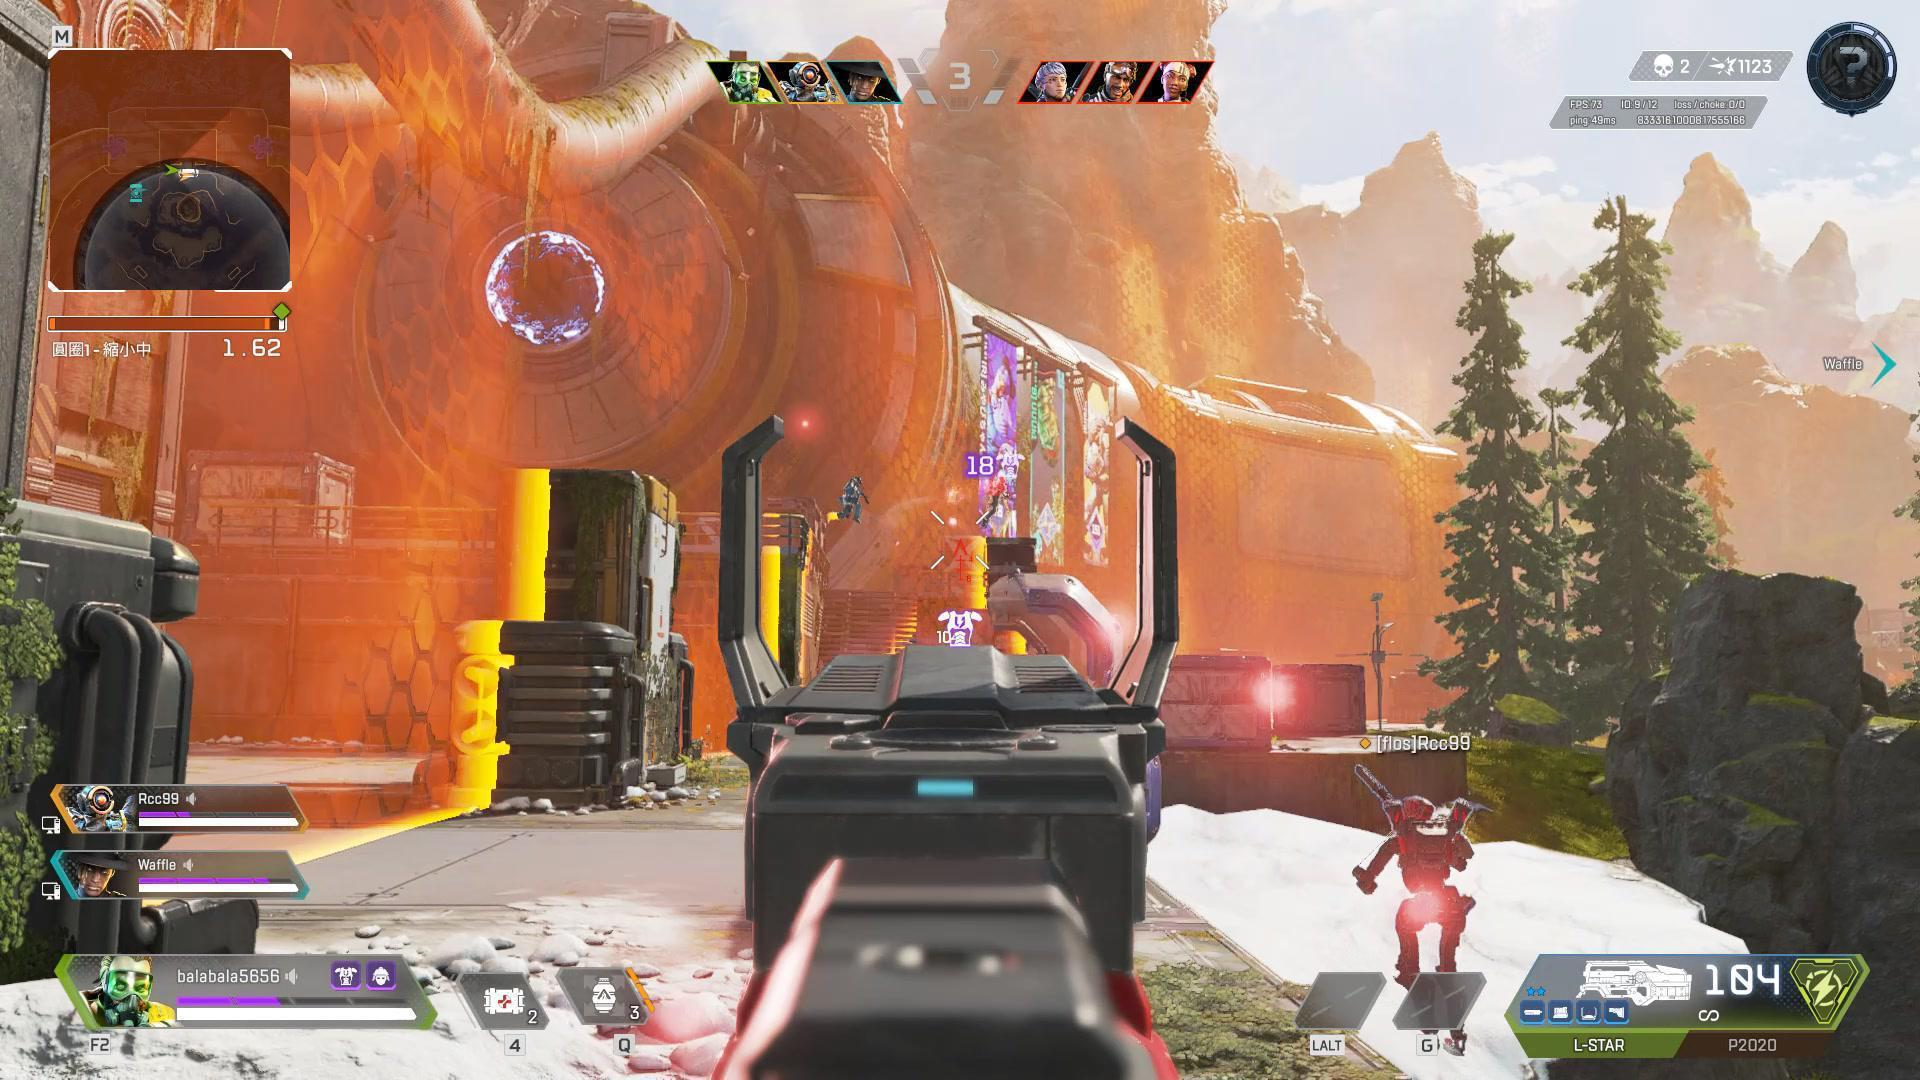avatar: (1349, 790, 1476, 975)
